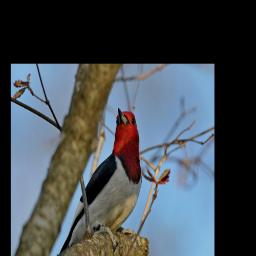Woodpecker: (53, 99, 146, 256)
